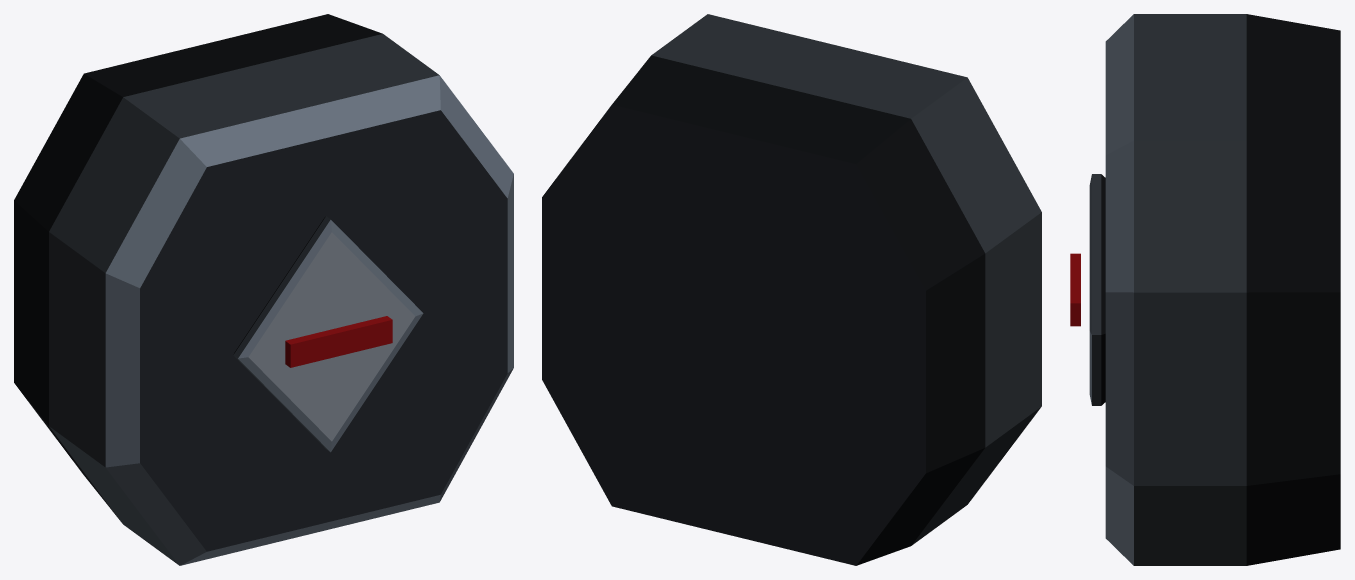
Rendered from VeilBoostPanel.obj.
3 renders of one model, left to right at view 1: azimuth 30°, elevation 25°; view 2: azimuth 150°, elevation 25°; view 3: azimuth 270°, elevation 25°, orthographic.
Parts seen in each view (by area): view 1: breakable_armour, armour_badge, armour_status; view 2: breakable_armour; view 3: breakable_armour, armour_badge, armour_status.
Boxes of the visible parts, x1,y1,x2,y2 form: breakable_armour: (14,14,513,565); armour_badge: (233,216,423,452); armour_status: (285,316,392,367); breakable_armour: (542,14,1041,565); breakable_armour: (1105,14,1340,565); armour_badge: (1089,174,1105,405); armour_status: (1070,253,1080,326).
Bounding box in the file's own units: 0.44 × 0.44 × 0.253.
